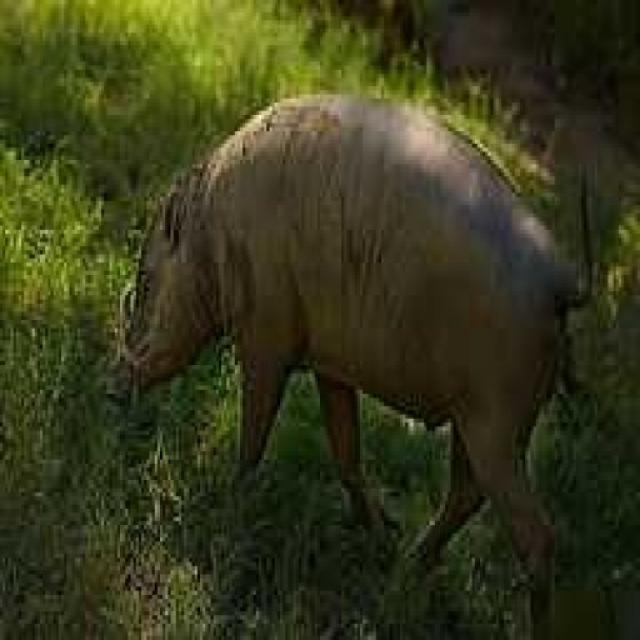pig: (115, 64, 626, 542)
